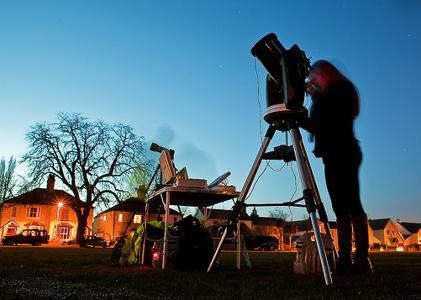person: (311, 60, 371, 272)
